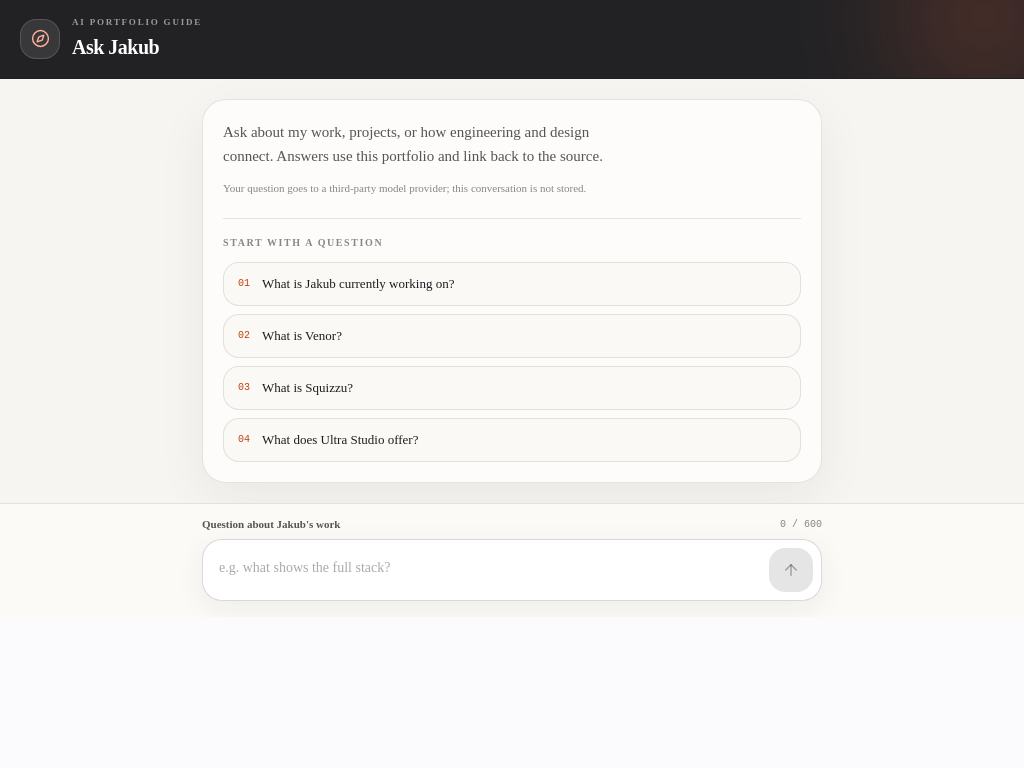
it: Ask Jakub Desktop App › submits a curated suggestion and clears a finished conversation
Click the button "01 What is Jakub currently working on?" at (358, 284), box [223,262,801,306]
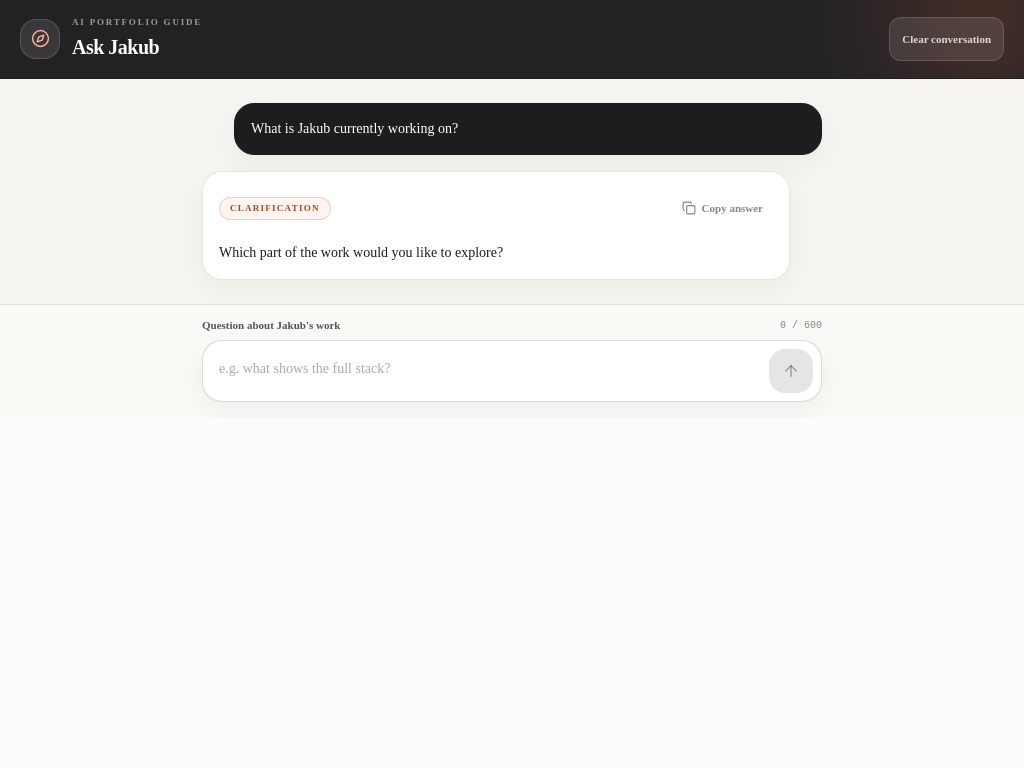
Expected: the text "What is Jakub currently working on?" is shown, [251,120,458,136]
Expected: the text "Clarification" is shown, [219,196,331,220]
Click the button "Clear conversation" at (947, 39), box [889,17,1004,61]
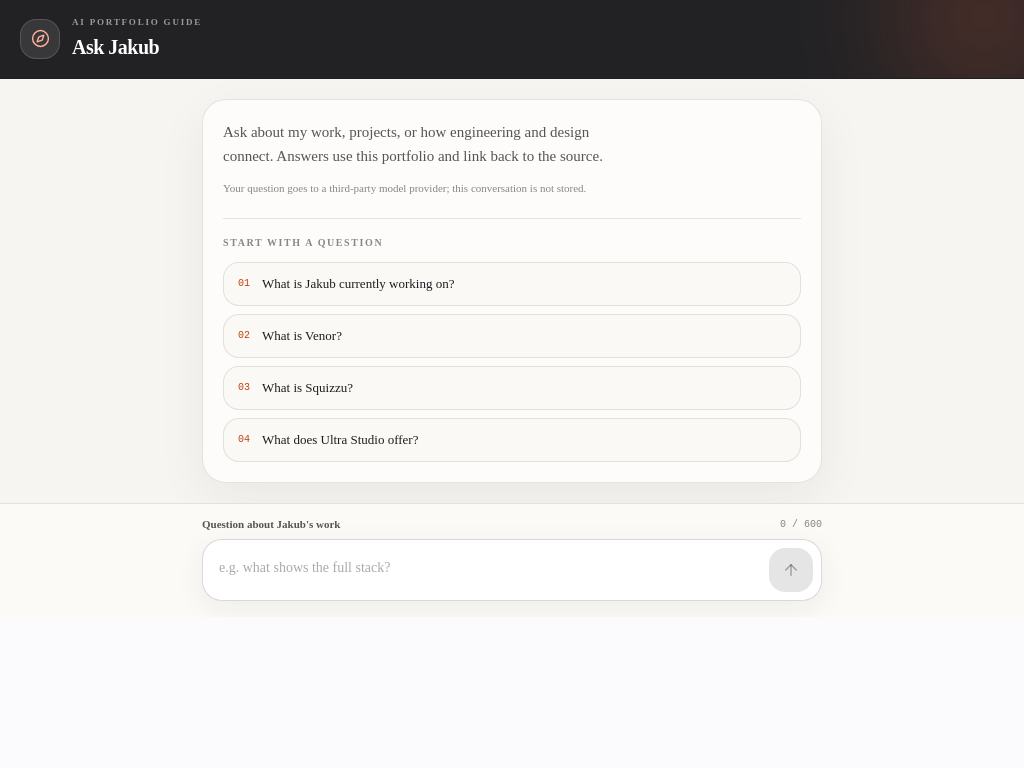
Expected: the text "Start with a question" is shown, [223,237,383,248]
